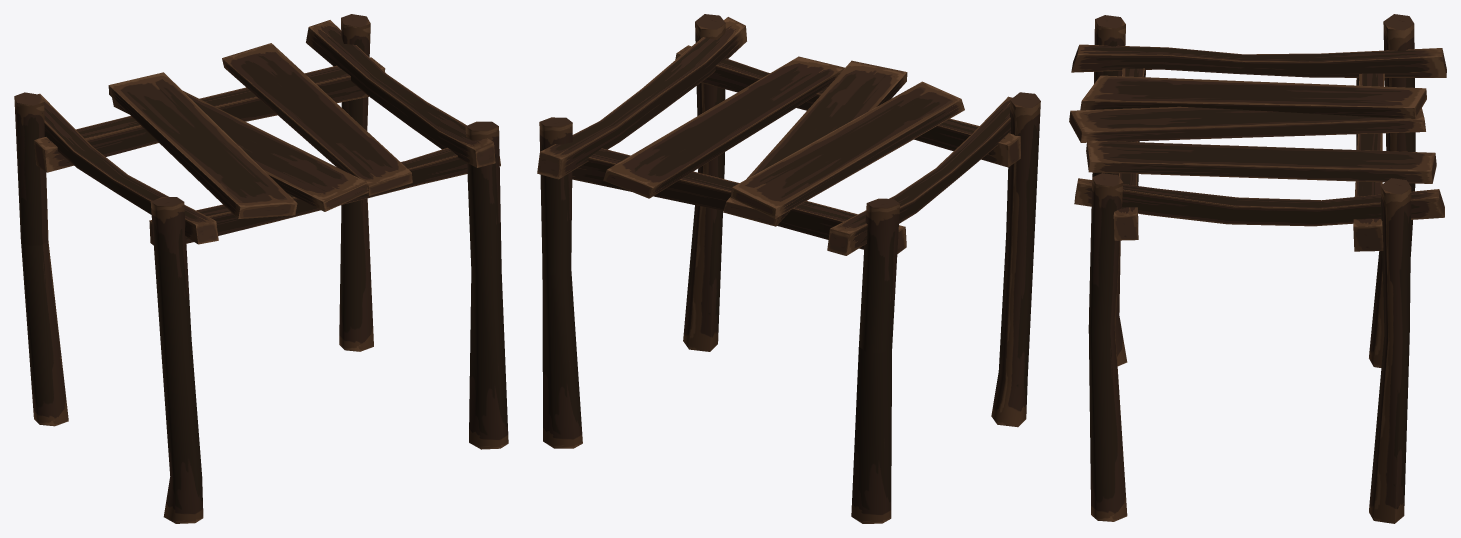
The model's file is SM_PROP_woodbridge_dungeon_06.fbx.
3 renders of one model, left to right at view 1: azimuth 30°, elevation 25°; view 2: azimuth 150°, elevation 25°; view 3: azimuth 270°, elevation 25°, orthographic. The views are drawn at different scales.
Parts seen in each view (by area): view 1: SM_PROP_woodbridge_dungeon_06; view 2: SM_PROP_woodbridge_dungeon_06; view 3: SM_PROP_woodbridge_dungeon_06.
Boxes of the visible parts, left/top/right/bottom form: SM_PROP_woodbridge_dungeon_06: left=14, top=14, right=508, bottom=523; SM_PROP_woodbridge_dungeon_06: left=537, top=14, right=1040, bottom=523; SM_PROP_woodbridge_dungeon_06: left=1069, top=14, right=1446, bottom=523.
Size of what is drawn, in the model's own units: 406 by 353 by 364.
